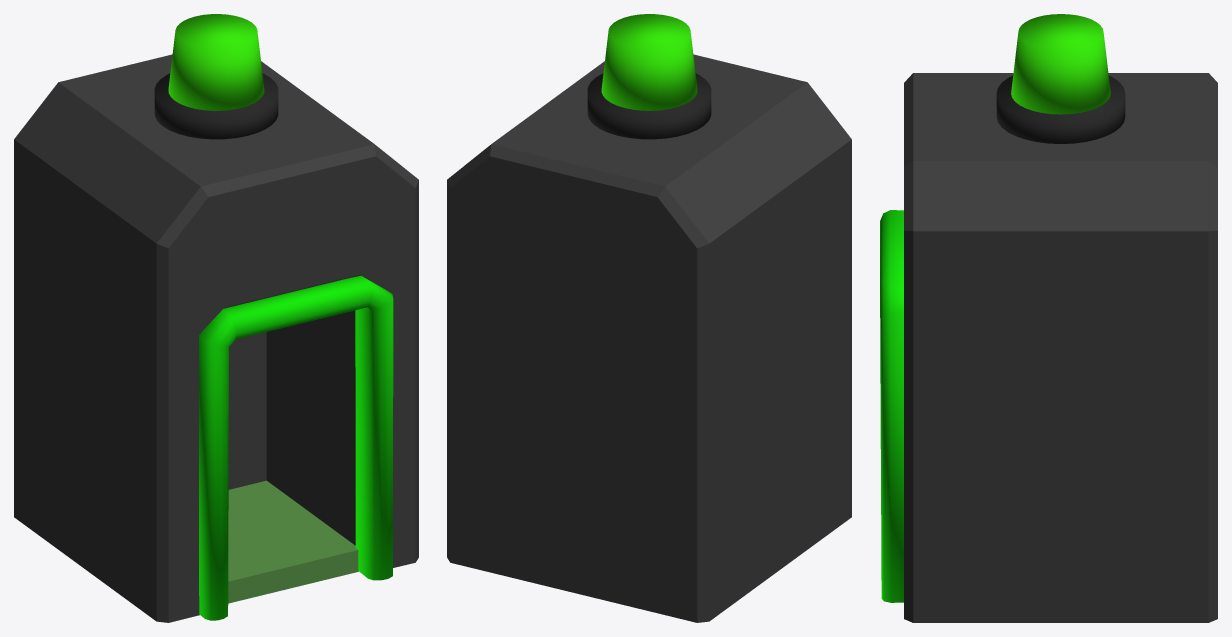
File: End.fbx
3 views of the same model, side by side, from view 1: azimuth 30°, elevation 25°; view 2: azimuth 150°, elevation 25°; view 3: azimuth 270°, elevation 25° (orthographic). The views are drawn at different scales.
Visible parts, largest first — view 1: Cube; view 2: Cube; view 3: Cube.
Part boxes in pixels (x1,y1,x2,y2): Cube: (14,14,418,622); Cube: (447,14,851,622); Cube: (880,14,1217,622).
Size of the model in its own units: 200 by 369 by 215.
